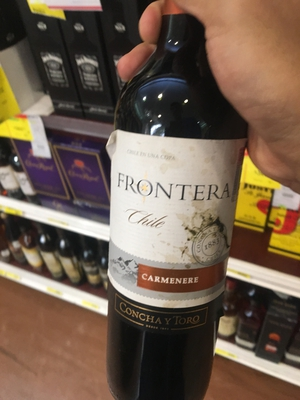frontera carmenere: (94, 17, 246, 400)
